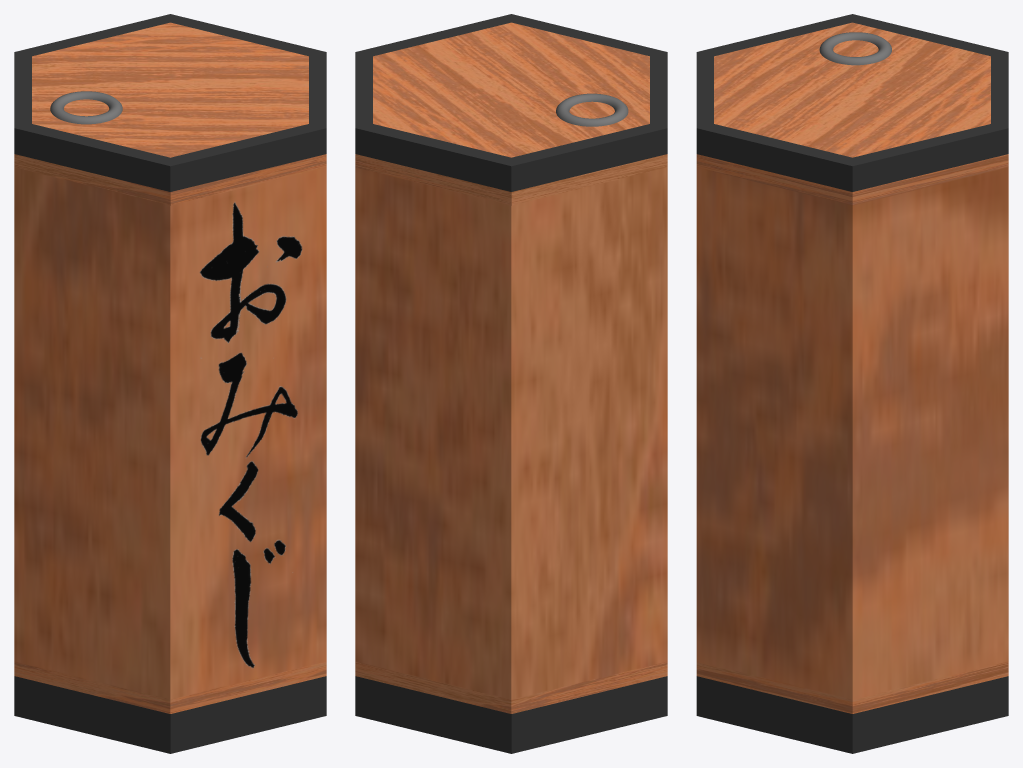
File: omikuji.glb
3 views of the same model, side by side, from view 1: azimuth 30°, elevation 25°; view 2: azimuth 150°, elevation 25°; view 3: azimuth 270°, elevation 25° (orthographic).
Parts seen in each view (by area): view 1: 本体; view 2: 本体; view 3: 本体.
Part boxes in pixels (x1,y1,x2,y2): 本体: (14,14,326,753); 本体: (355,14,667,753); 本体: (696,14,1008,753).
Bounding box in the file's own units: 2 × 3.63 × 1.73.
Materials: 5 (2 with a texture image).
